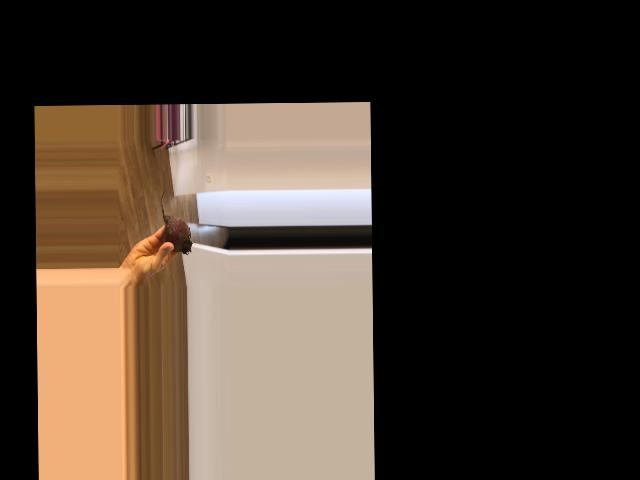beet: (161, 188, 192, 254)
